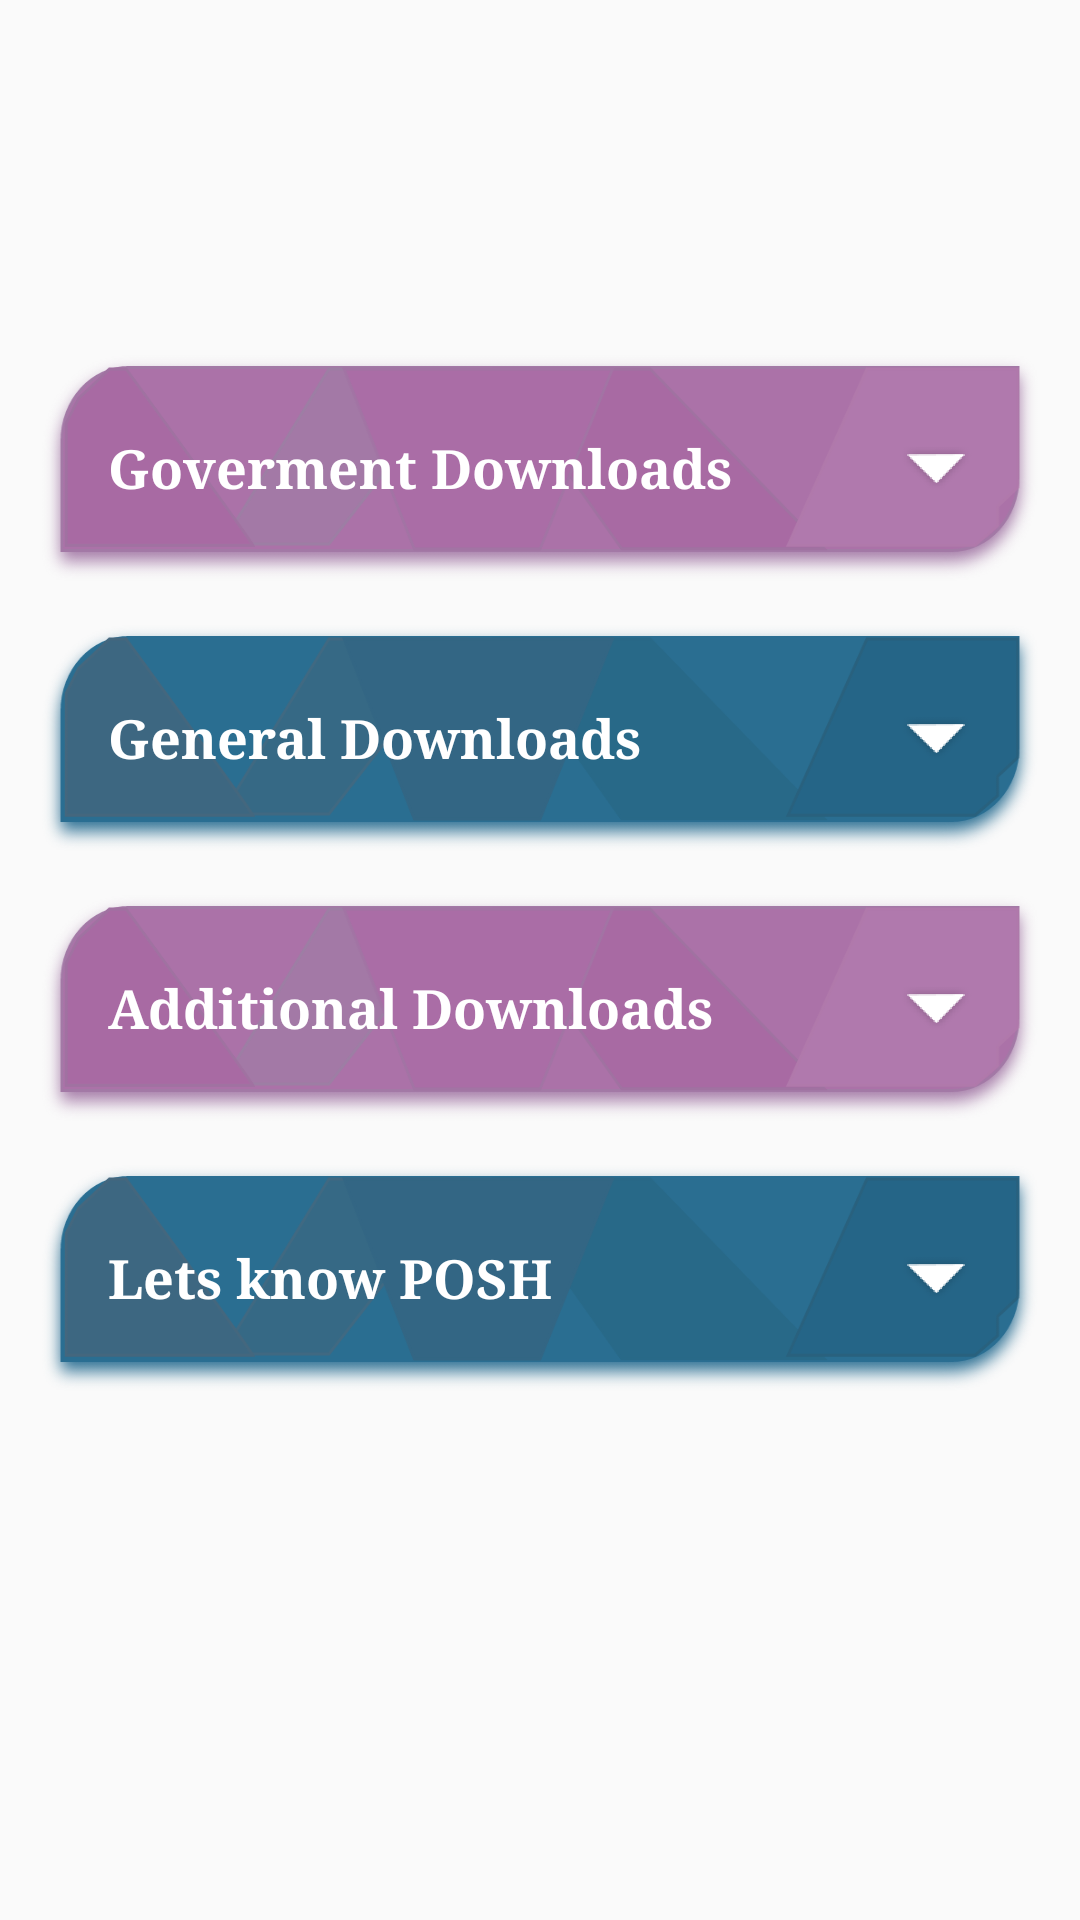

Icon click points for this 1080*1920 phone screenshot, format (x,y):
rkt arrow down: (936,468), (936,738), (936,1008), (936,1278)
